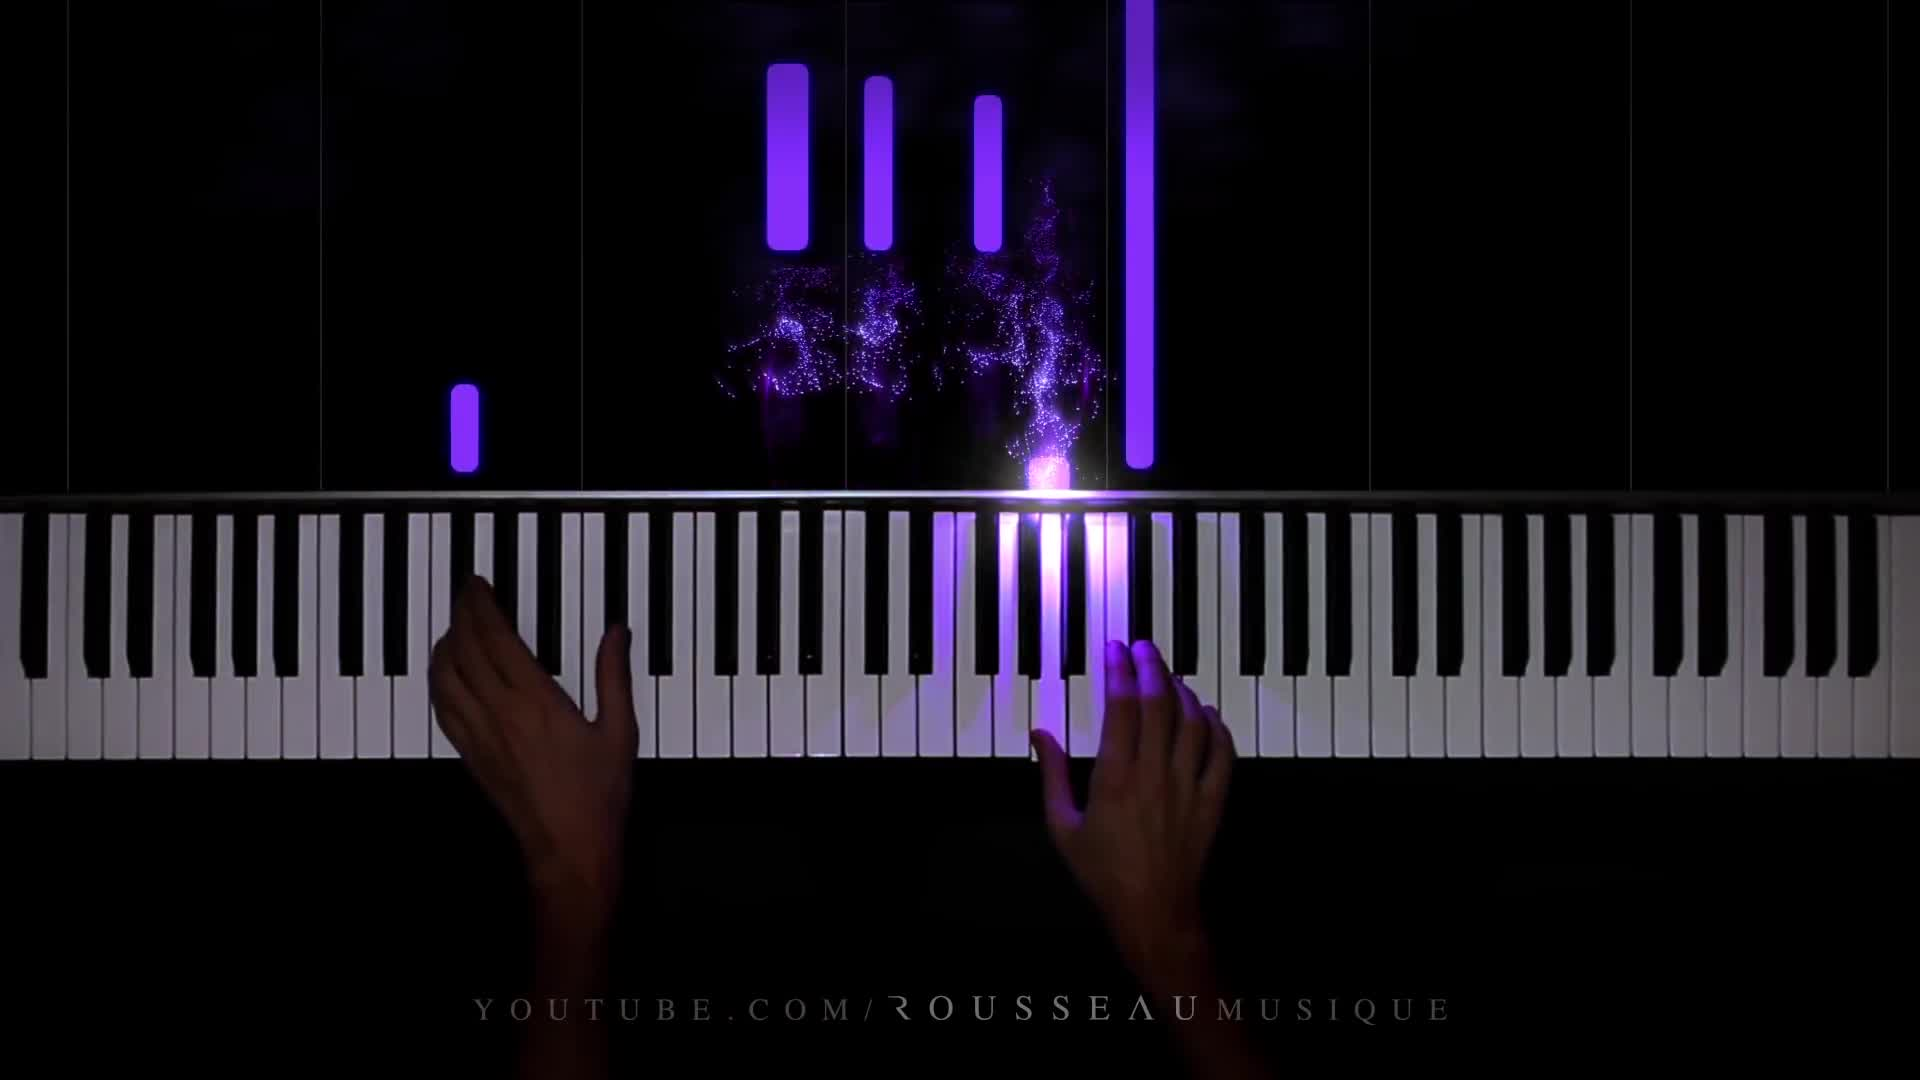left: (426, 572, 641, 856)
right: (1026, 638, 1238, 893)
